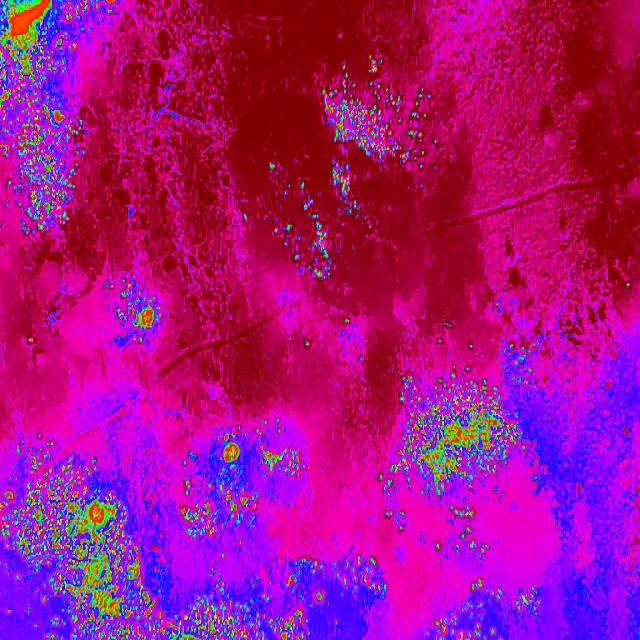fire: (0, 412, 318, 638), (0, 0, 107, 242), (401, 377, 527, 504), (317, 67, 444, 172), (274, 171, 358, 281), (426, 584, 544, 640), (318, 555, 386, 640), (106, 277, 162, 353), (378, 458, 412, 536), (430, 528, 496, 562)
